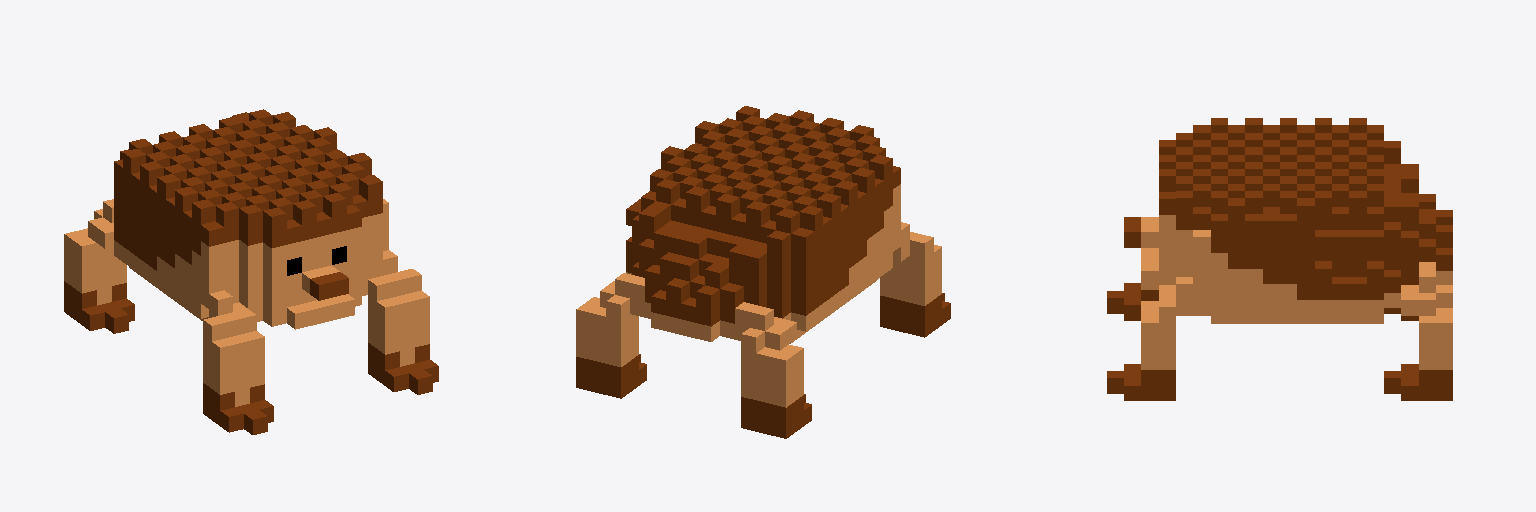
3 renders of one model, left to right at view 1: azimuth 30°, elevation 25°; view 2: azimuth 150°, elevation 25°; view 3: azimuth 270°, elevation 25°, orthographic.
Visible parts, largest first — view 1: object 1; view 2: object 1; view 3: object 1.
Boxes of the visible parts, x1,y1,x2,y2 form: object 1: [64, 109, 438, 434]; object 1: [576, 106, 950, 438]; object 1: [1107, 118, 1452, 400].
Size of the model in its own units: 1.4 by 1.2 by 2.
Materials: 1 (1 with a texture image).